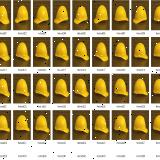Helmet: (74, 78, 89, 98), (34, 115, 50, 133), (34, 42, 50, 60), (34, 5, 49, 24), (54, 115, 69, 134), (35, 78, 50, 97), (94, 115, 109, 134), (74, 42, 89, 61), (55, 78, 69, 98), (74, 115, 89, 133), (133, 115, 148, 133), (14, 5, 28, 24), (16, 42, 30, 61), (133, 5, 147, 24), (54, 5, 68, 24), (94, 5, 108, 24), (16, 78, 30, 97), (55, 42, 69, 61), (95, 42, 108, 62), (15, 115, 30, 132), (133, 78, 148, 95), (74, 6, 88, 24), (114, 78, 128, 96), (114, 115, 128, 133), (95, 78, 108, 97), (115, 42, 128, 60), (114, 6, 129, 21), (134, 43, 148, 59), (0, 42, 10, 61), (0, 78, 10, 97), (0, 6, 10, 24), (0, 115, 10, 132), (152, 115, 160, 132), (153, 6, 160, 22), (153, 42, 160, 57), (153, 79, 160, 94)
